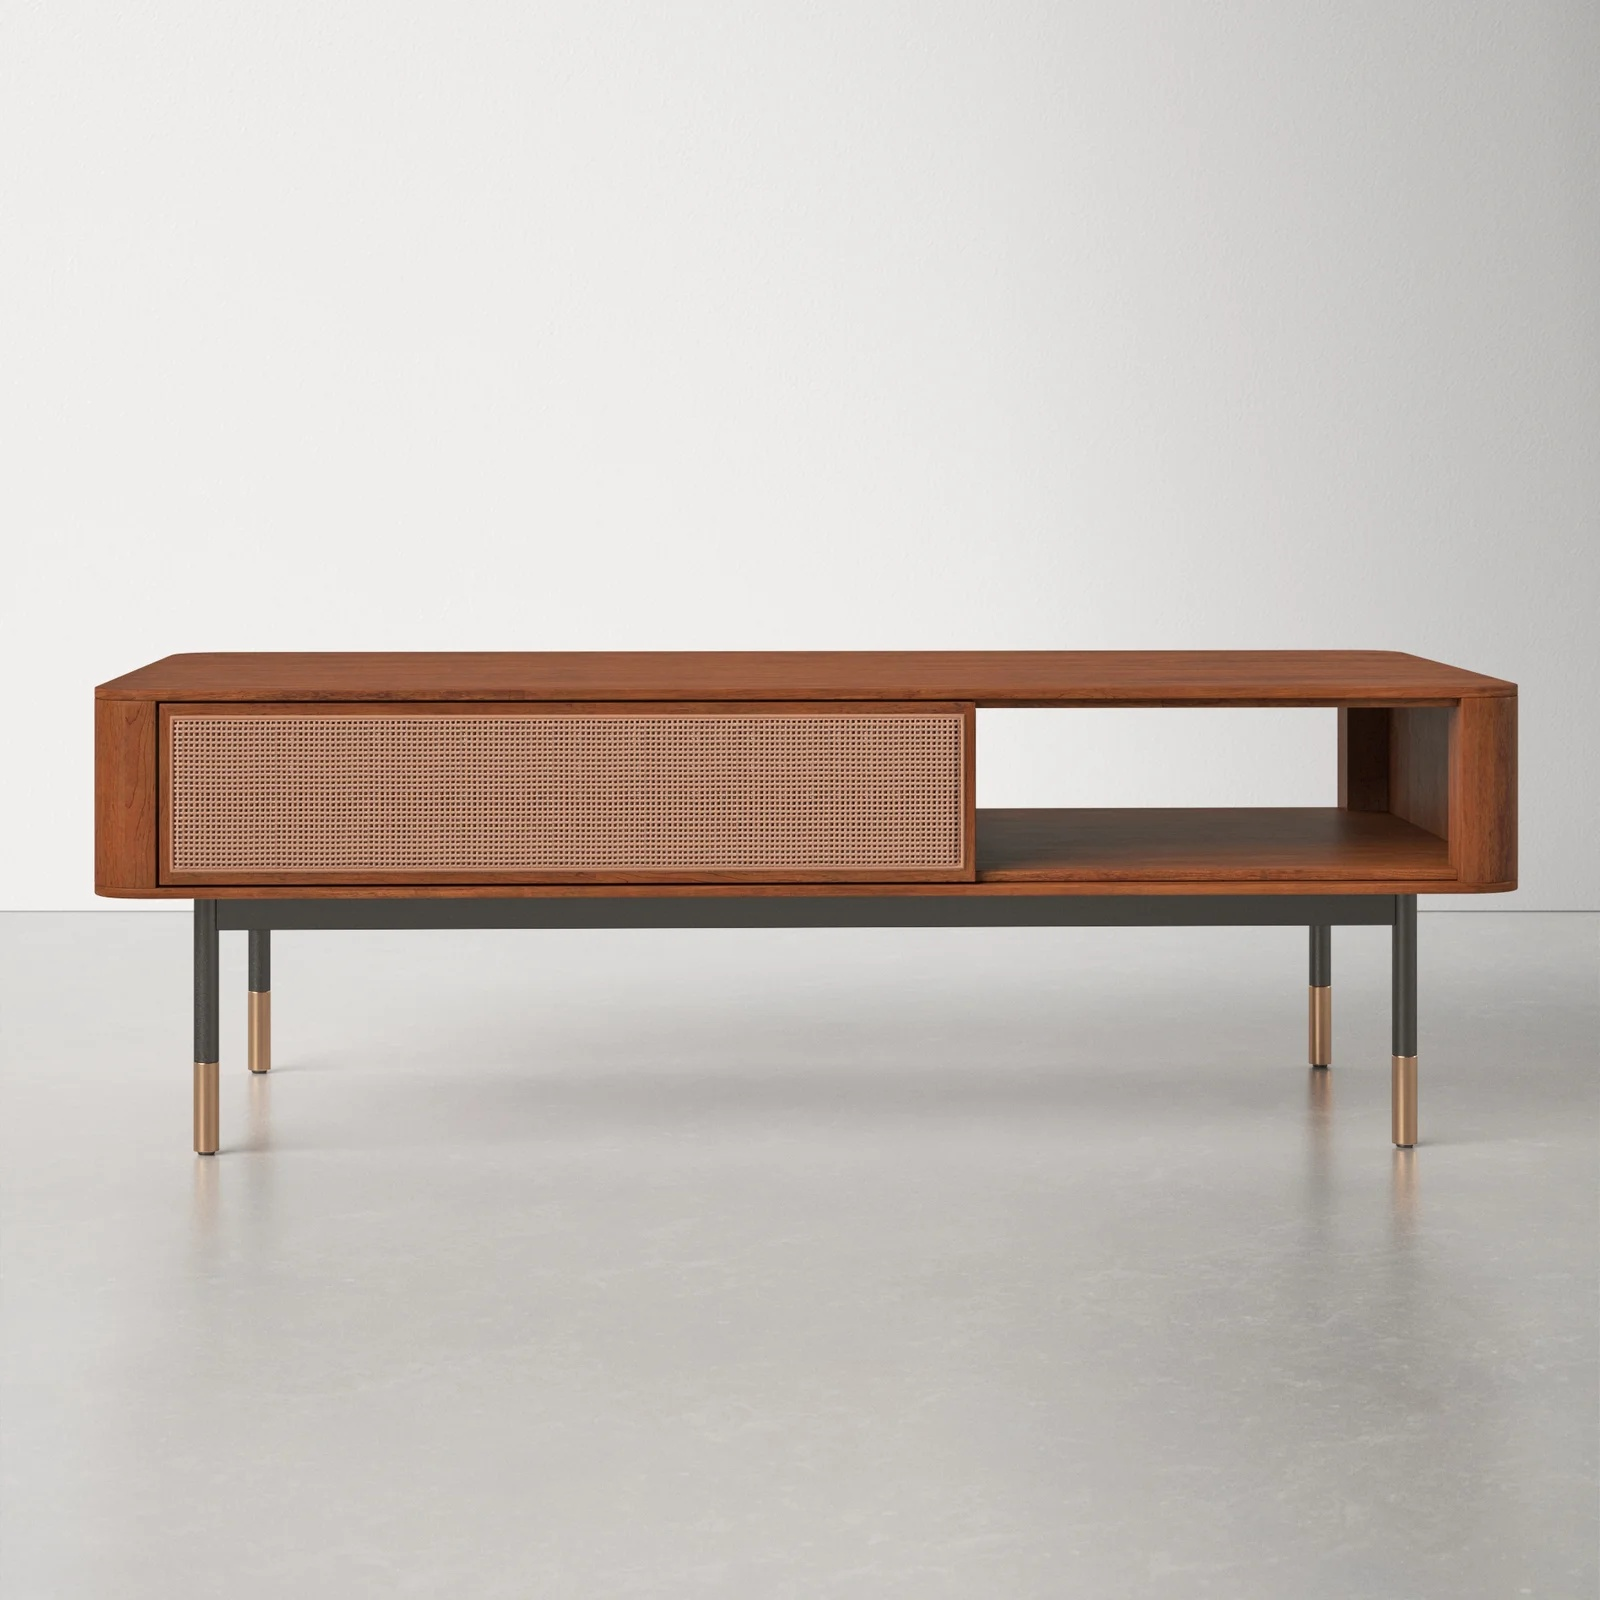obstacle: (95, 651, 1516, 1155)
